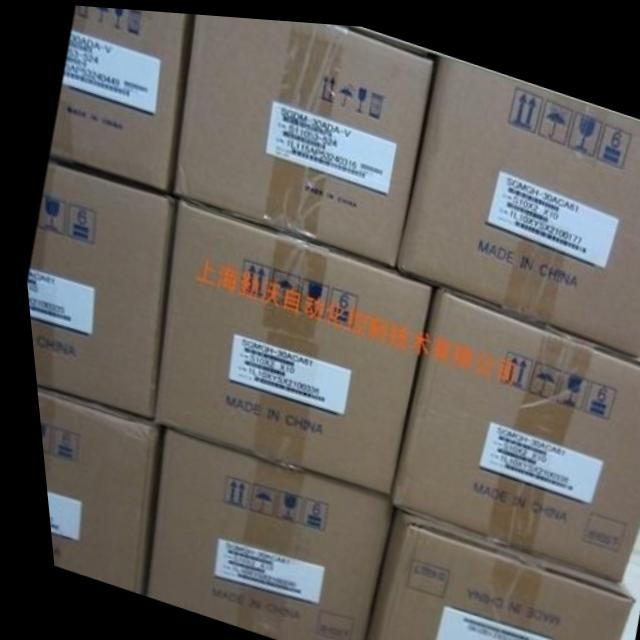box: (145, 196, 427, 491), (382, 279, 640, 575), (392, 47, 640, 348), (168, 11, 436, 262), (132, 424, 383, 640), (21, 161, 171, 419), (352, 501, 623, 640), (45, 4, 192, 192), (29, 388, 151, 594)
